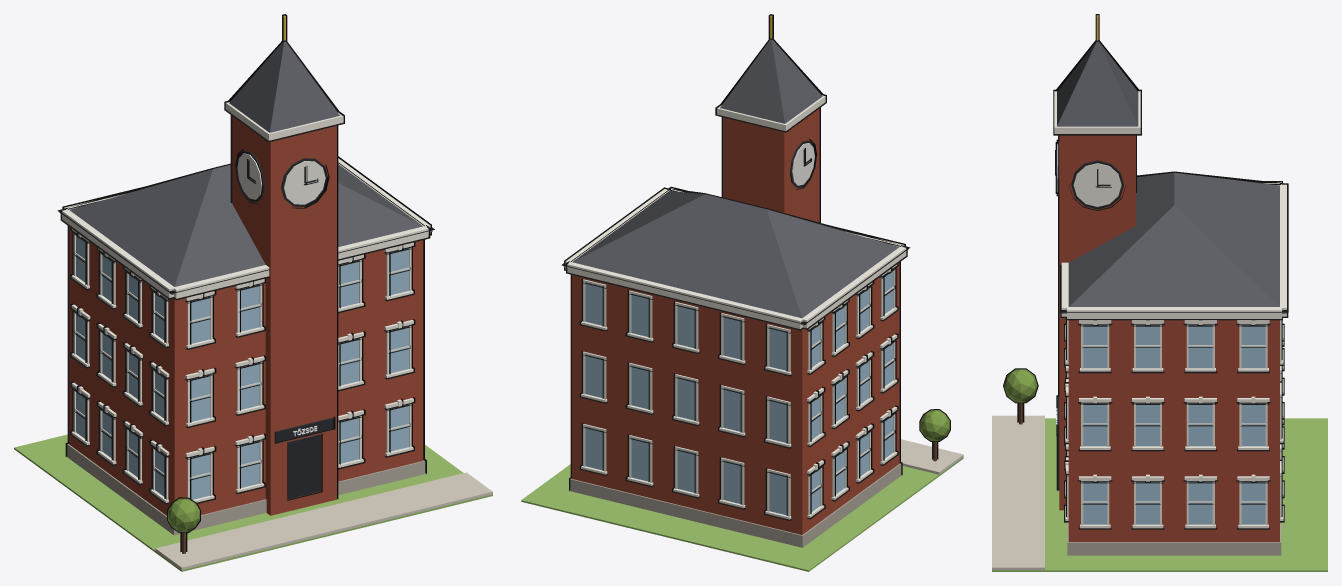
The model's file is Buro_saat_kuleli_2.fbx.
3 renders of one model, left to right at view 1: azimuth 30°, elevation 25°; view 2: azimuth 150°, elevation 25°; view 3: azimuth 270°, elevation 25°, orthographic. The views are drawn at different scales.
Visible parts, largest first — view 1: Buro_saat_kuleli_2; view 2: Buro_saat_kuleli_2; view 3: Buro_saat_kuleli_2.
Part boxes in pixels (x1=…): Buro_saat_kuleli_2: x1=14, y1=14, x2=492, y2=571; Buro_saat_kuleli_2: x1=521, y1=14, x2=963, y2=571; Buro_saat_kuleli_2: x1=992, y1=14, x2=1327, y2=571.
Bounding box in the file's own units: 15 × 22.12 × 14.
